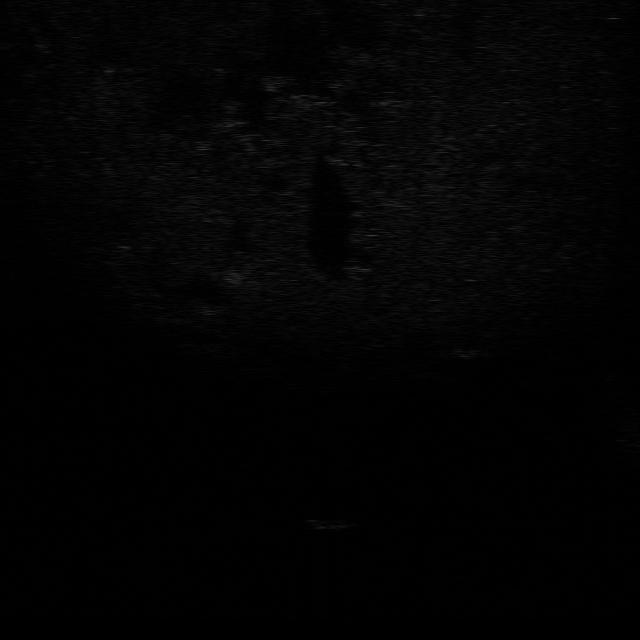cube: (304, 518, 356, 530)
square cage: (443, 344, 495, 359)
